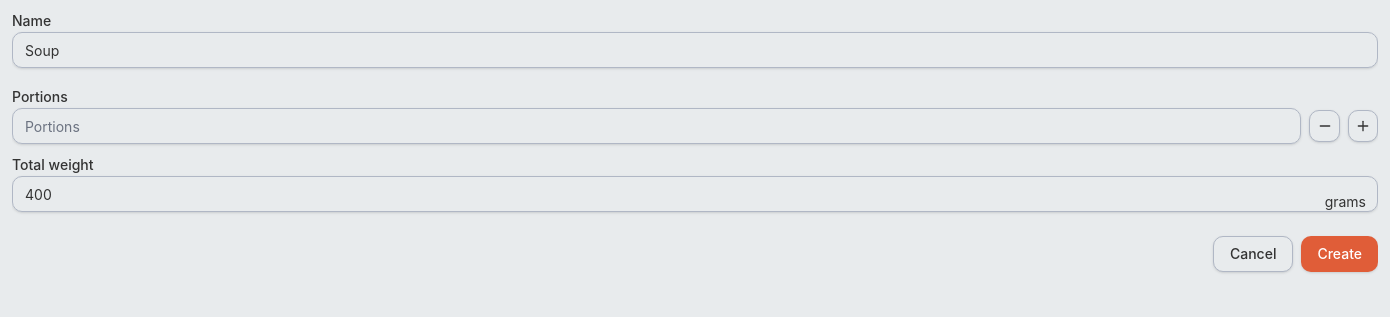
Test: RecipeForm › shows a validation error when portions are below 1
Click the button "Create".
click(1340, 254)  # box [1301,236,1378,272]
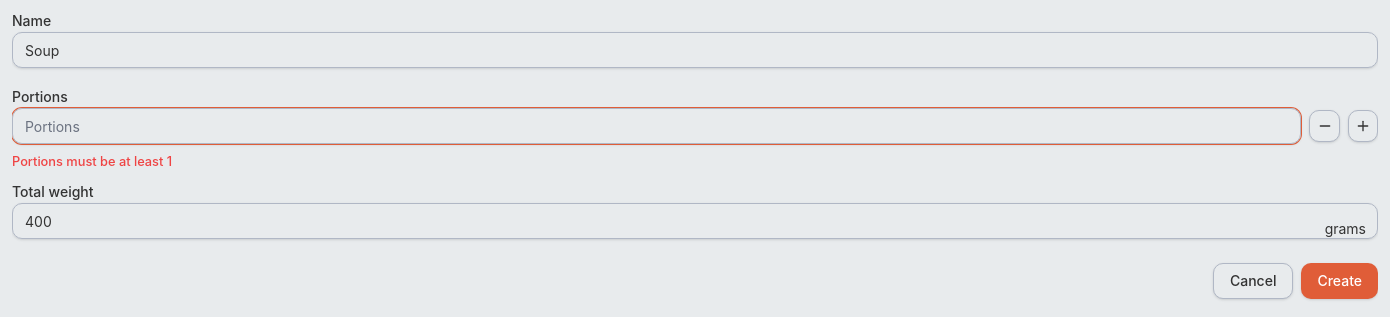
expect the text "Portions must be at least 1" is shown: met, box [12,154,172,169]
